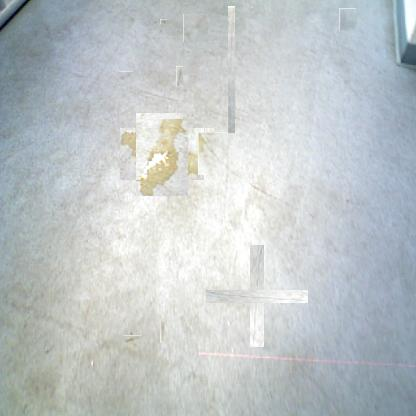liquid: (128, 120, 196, 188), (205, 127, 214, 136)
mark: (228, 267, 286, 325), (198, 132, 237, 175), (227, 6, 235, 133), (183, 14, 208, 42), (251, 183, 279, 201), (339, 8, 356, 31), (126, 333, 139, 346), (118, 71, 132, 82), (176, 66, 183, 87), (160, 321, 165, 343), (46, 347, 52, 355), (346, 196, 350, 204), (161, 18, 166, 24), (159, 28, 163, 34), (153, 18, 157, 24)
